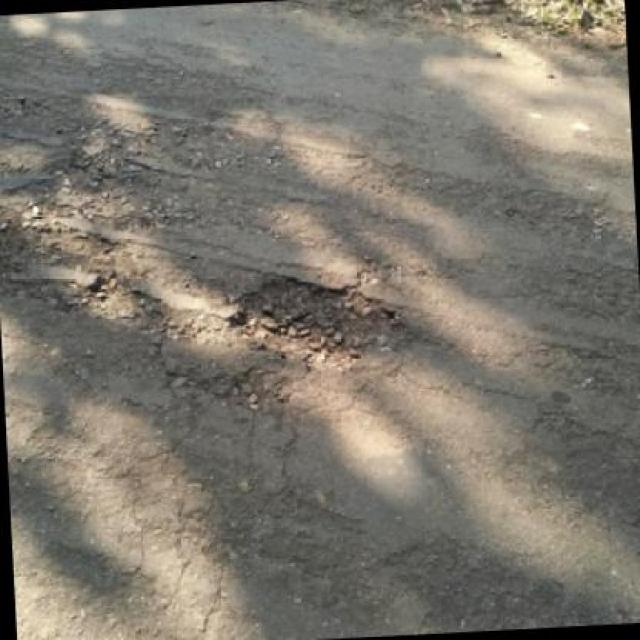pothole: (225, 265, 412, 370)
